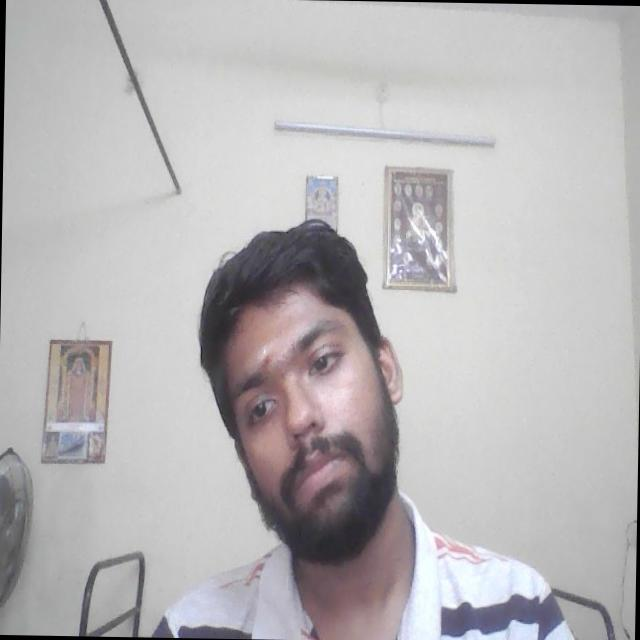Focused: (214, 281, 416, 548)
